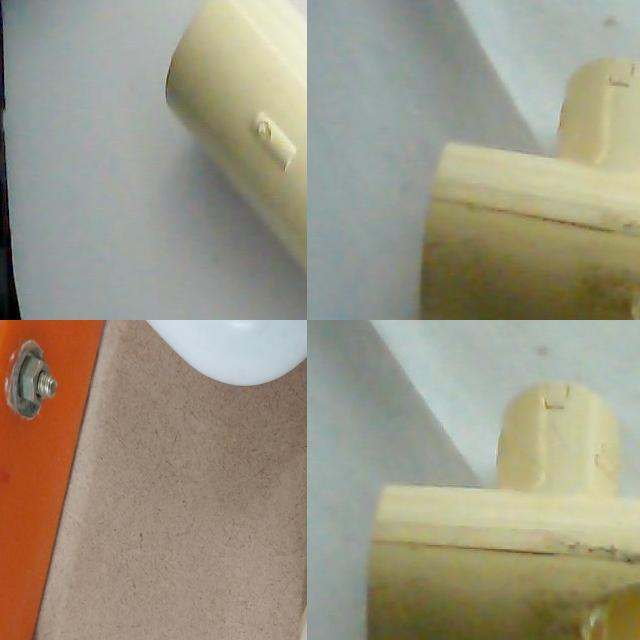Defective: (565, 536, 640, 640), (198, 443, 243, 546)
L Joint: (173, 439, 307, 640)
T Joint: (365, 381, 640, 640), (419, 58, 640, 320), (163, 0, 307, 279)
